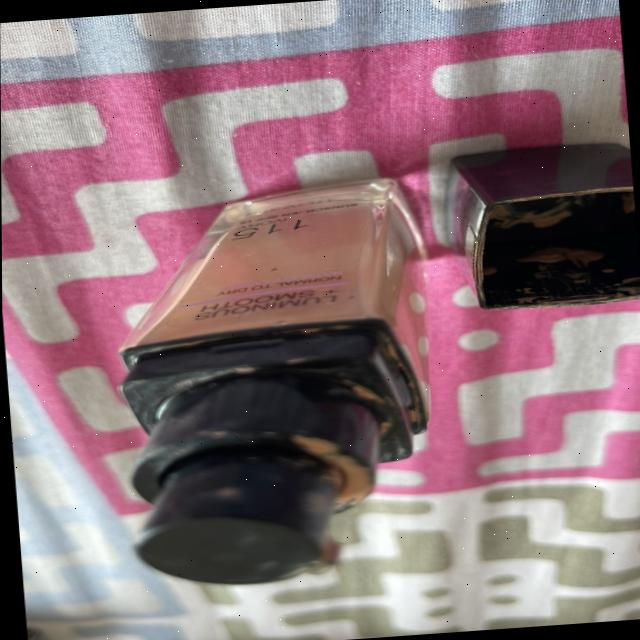foundation: (68, 113, 476, 624)
